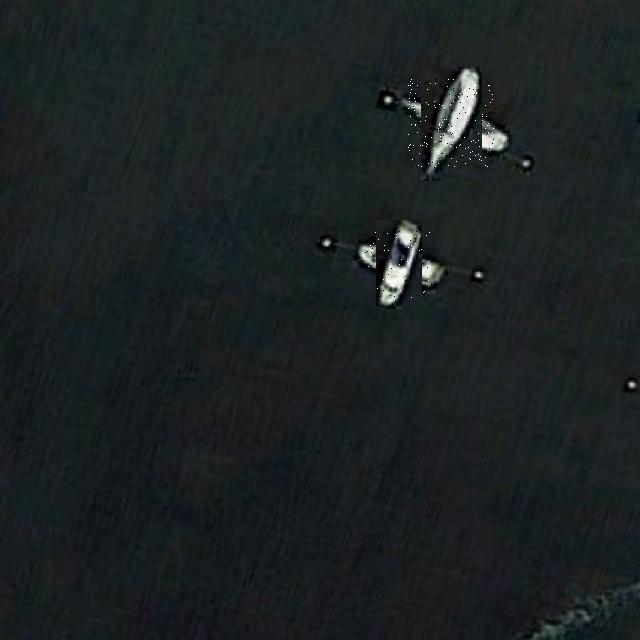boat: (408, 79, 495, 168), (365, 230, 433, 298)
